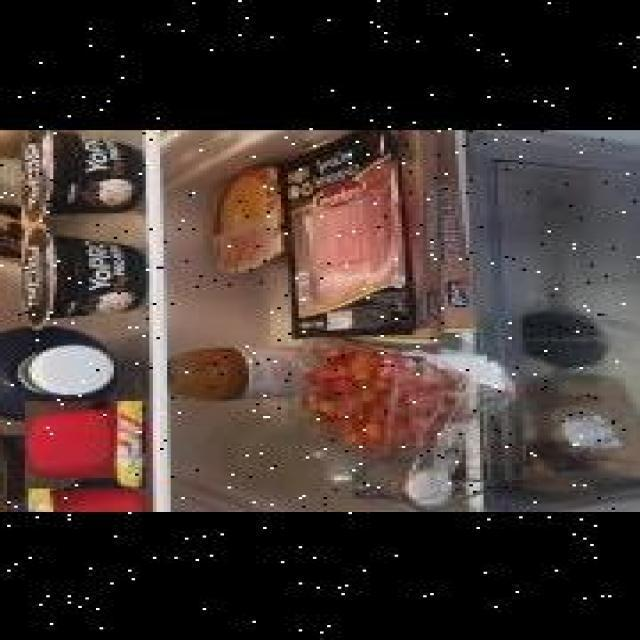tomato: (327, 393, 363, 418), (348, 350, 377, 380), (360, 420, 390, 446), (359, 399, 384, 422), (328, 376, 356, 394), (327, 354, 349, 376)
yogurt: (25, 398, 146, 486), (0, 162, 64, 258)
